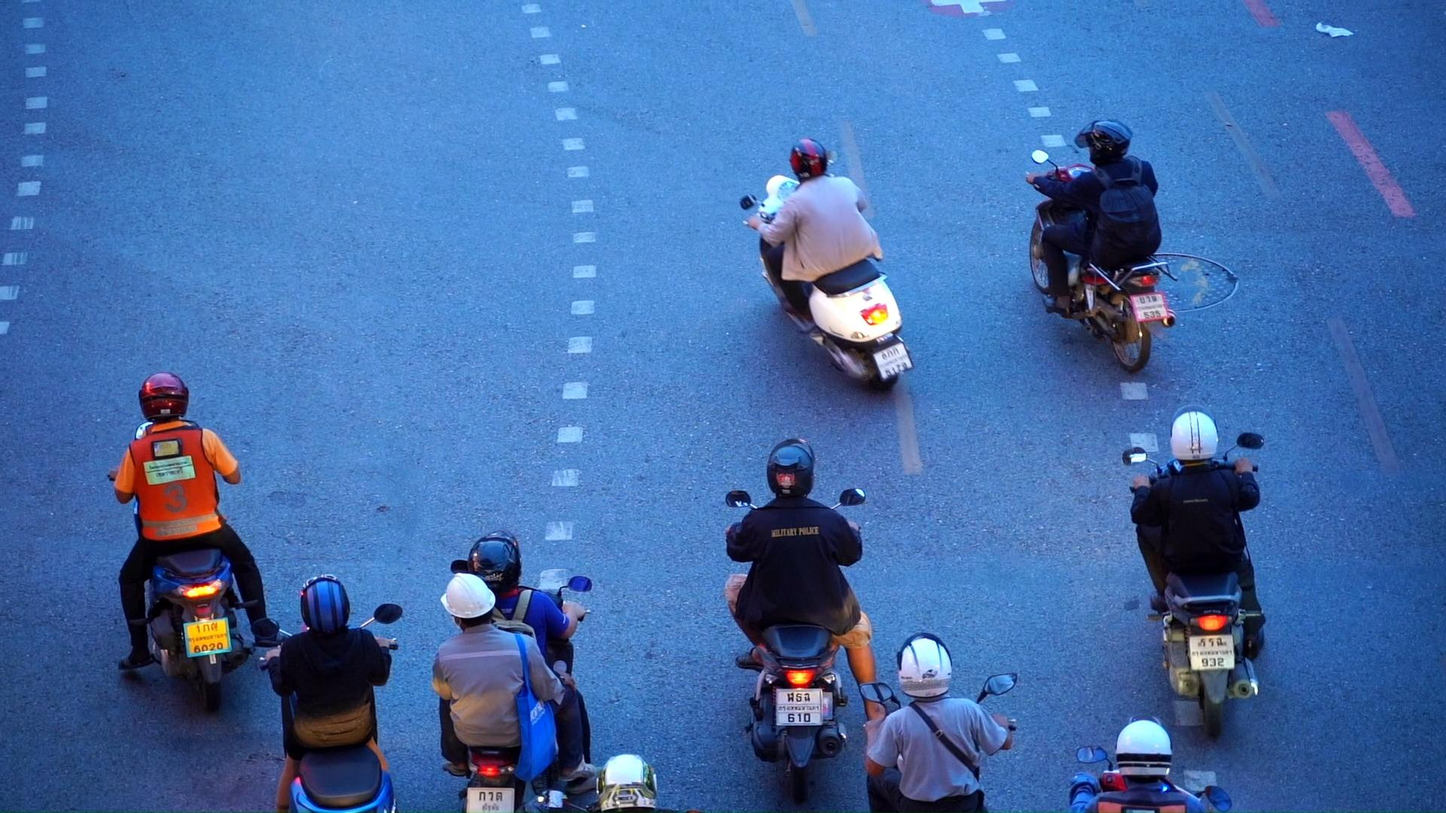driver: (105, 371, 292, 712), (725, 438, 888, 805), (430, 529, 605, 813), (1122, 402, 1267, 739), (740, 138, 916, 390), (1024, 119, 1178, 374), (251, 574, 402, 813), (860, 633, 1018, 813), (1071, 714, 1232, 813)
helmet: (1115, 714, 1174, 784), (467, 529, 523, 596), (896, 633, 952, 699), (596, 754, 658, 813), (440, 573, 496, 631), (1169, 402, 1219, 466), (1074, 119, 1133, 170), (300, 574, 350, 634), (767, 438, 815, 500), (138, 372, 189, 422), (790, 138, 828, 184)
